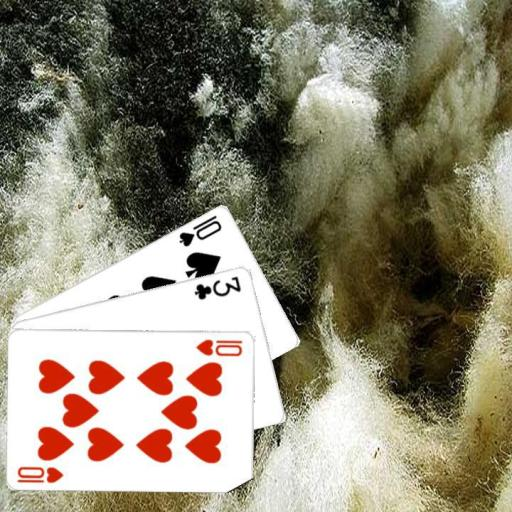10H: (193, 336, 244, 357), (15, 463, 65, 484)
10S: (176, 211, 223, 248)
3C: (191, 272, 243, 301)
